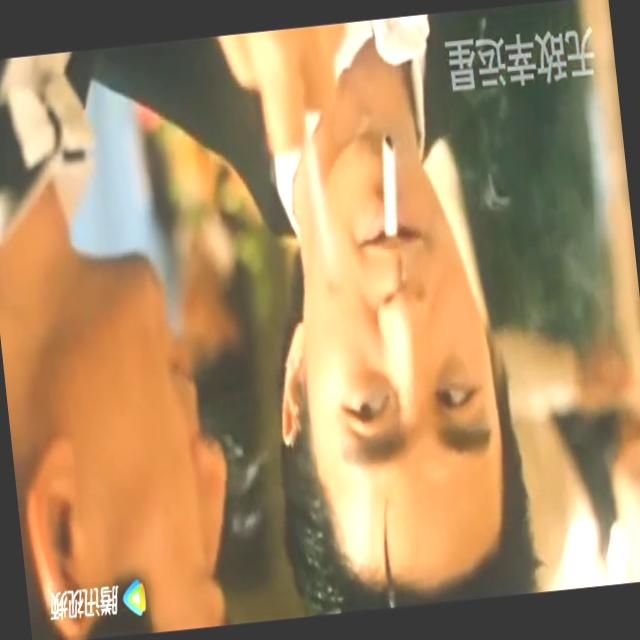smoke: (296, 125, 344, 298), (369, 127, 412, 245)
